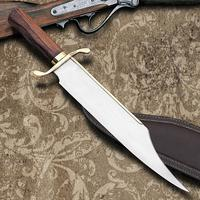knife: (10, 6, 188, 193)
